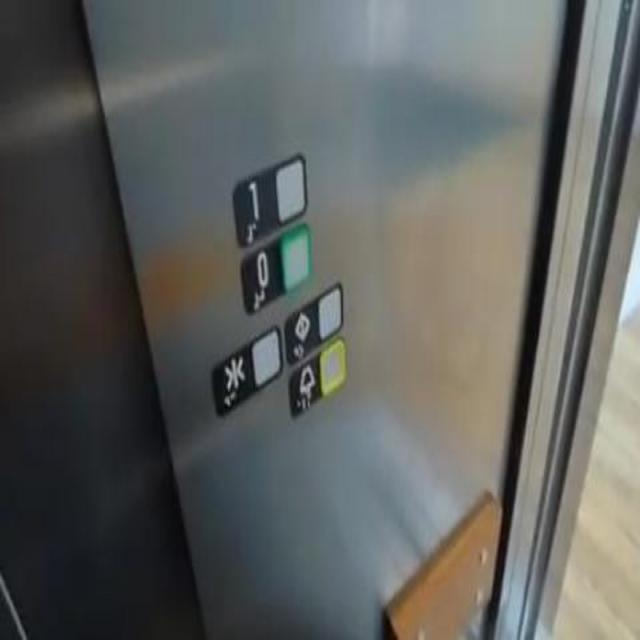0: (236, 220, 312, 319)
1: (229, 148, 308, 245)
alarm: (286, 335, 346, 417)
close: (209, 323, 286, 416)
open: (285, 276, 346, 364)
